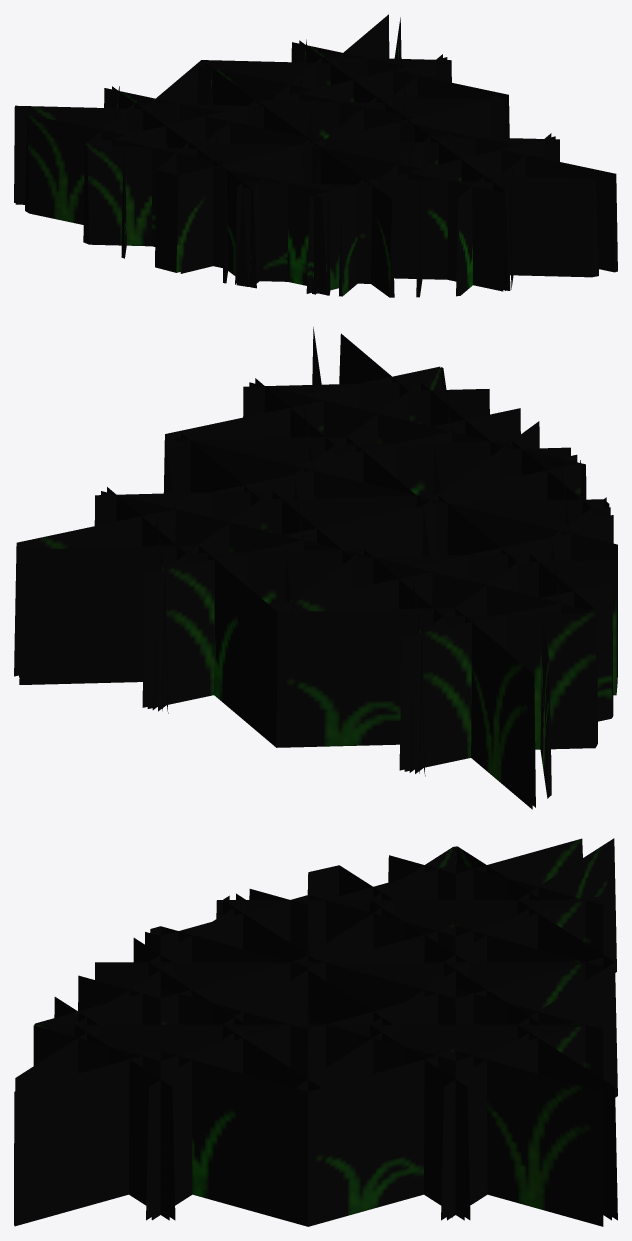
File: grass_patch_corner.gltf
3 views of the same model, one above another, from view 1: azimuth 30°, elevation 25°; view 2: azimuth 150°, elevation 25°; view 3: azimuth 270°, elevation 25° (orthographic). The views are drawn at different scales.
Parts seen in each view (by area): view 1: grass_patch_corner; view 2: grass_patch_corner; view 3: grass_patch_corner.
Part boxes in pixels (left/top/right/bottom): grass_patch_corner: left=14, top=14, right=617, bottom=297; grass_patch_corner: left=14, top=327, right=617, bottom=809; grass_patch_corner: left=14, top=838, right=617, bottom=1226.
Bounding box in the file's own units: 2.05 × 0.5 × 2.05.
Materials: 1 (1 with a texture image).
